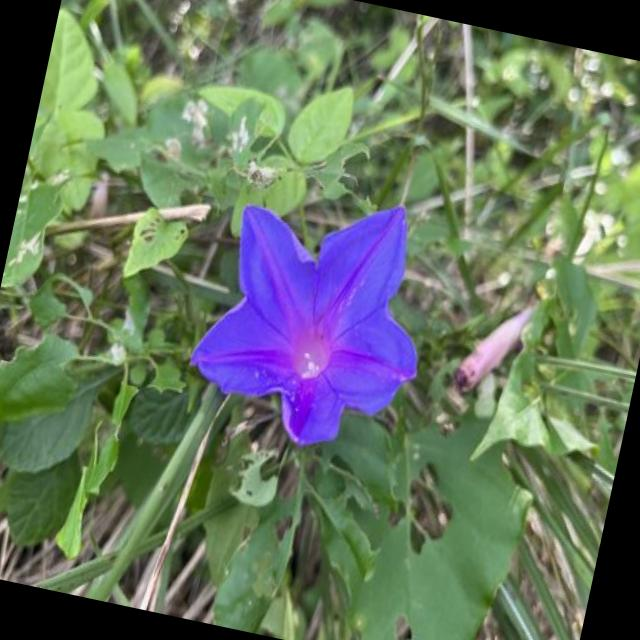ipomoea: (172, 165, 452, 472)
